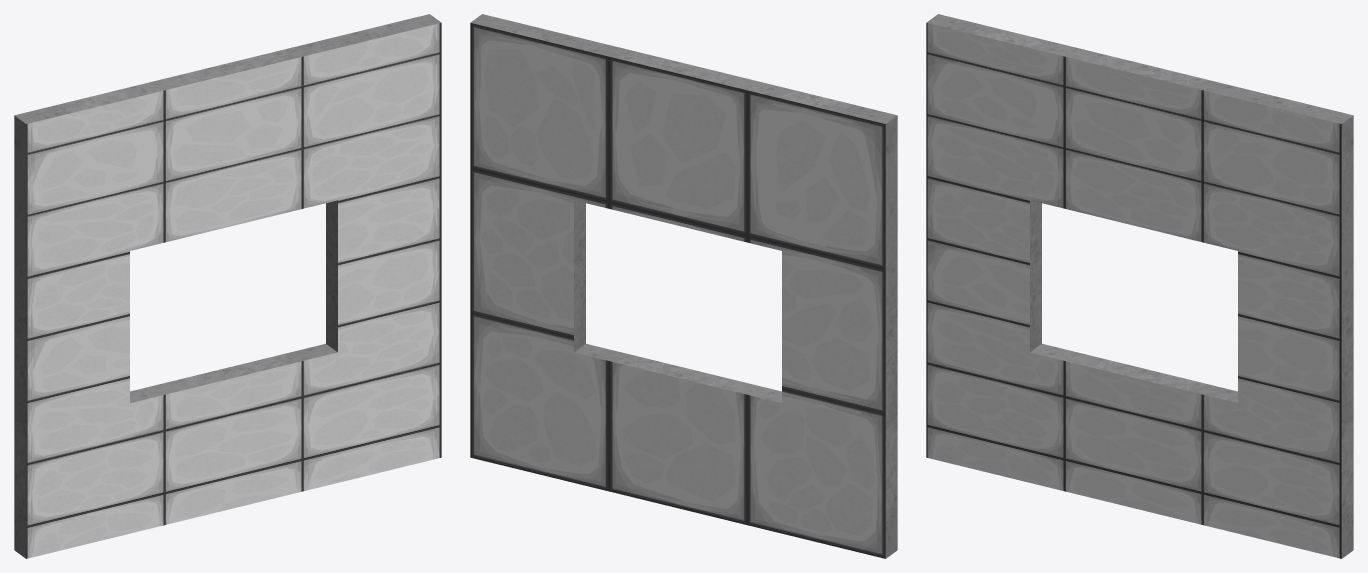
Rendered from SM_Wall_Wimdow_B.fbx.
3 views of the same model, side by side, from view 1: azimuth 30°, elevation 25°; view 2: azimuth 150°, elevation 25°; view 3: azimuth 330°, elevation 25° (orthographic).
Visible parts, largest first — view 1: SM_Wall_Wimdow_B; view 2: SM_Wall_Wimdow_B; view 3: SM_Wall_Wimdow_B.
Part boxes in pixels (x1=…): SM_Wall_Wimdow_B: x1=14, y1=14, x2=441, y2=558; SM_Wall_Wimdow_B: x1=470, y1=14, x2=897, y2=558; SM_Wall_Wimdow_B: x1=926, y1=14, x2=1353, y2=558.
Size of the model in its own units: 400 by 400 by 20.
